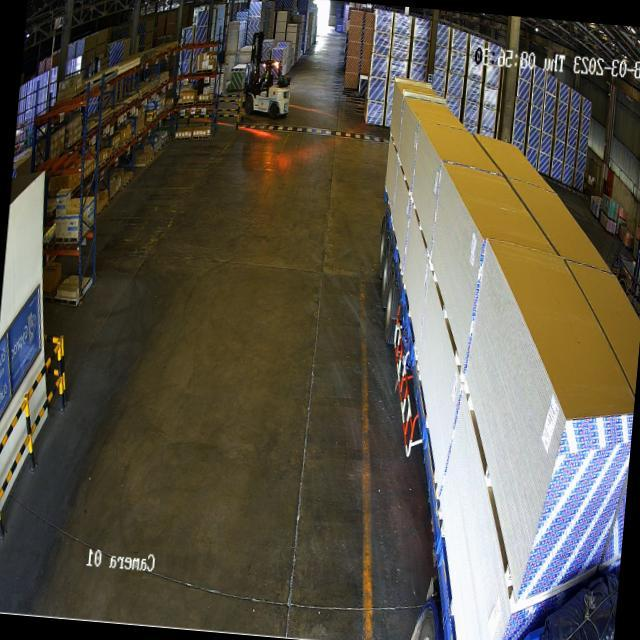forklift: (240, 52, 293, 123)
